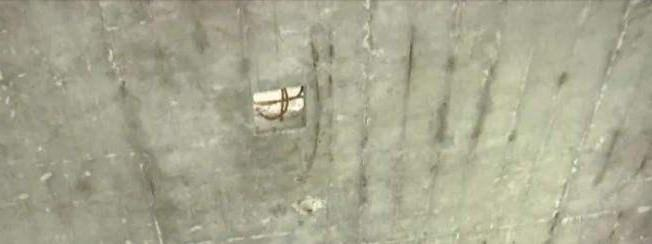Exposed reinforcement: (251, 85, 305, 107), (255, 87, 289, 121), (279, 88, 285, 122)
Spalling: (250, 83, 307, 135)
